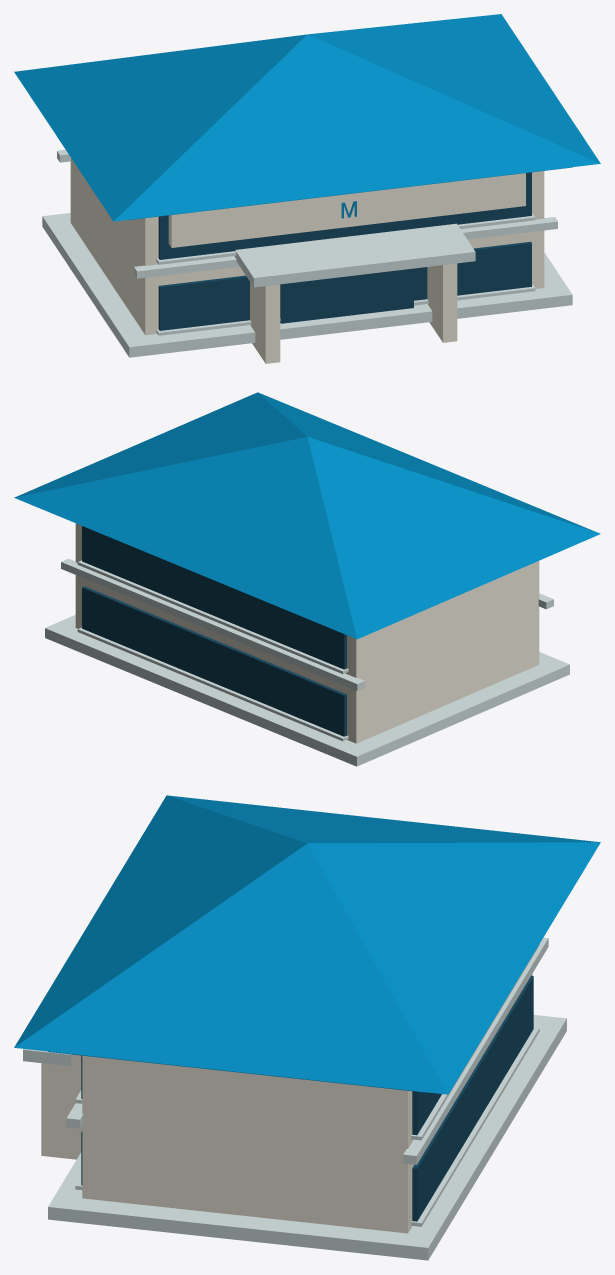
File: mahad-m.glb
The picture shows the model from 3 angles, top to bottom: view 1: azimuth 30°, elevation 25°; view 2: azimuth 150°, elevation 25°; view 3: azimuth 270°, elevation 25°; orthographic projection. The views are drawn at different scales.
Visible parts, largest first — view 1: Mahad_M_blue, Mahad_M_ivory, Mahad_M_trim, Mahad_M_glass; view 2: Mahad_M_blue, Mahad_M_ivory, Mahad_M_glass, Mahad_M_trim; view 3: Mahad_M_blue, Mahad_M_ivory, Mahad_M_trim, Mahad_M_glass.
Part boxes in pixels (bbox=[...]): Mahad_M_blue: bbox=[14, 14, 600, 221]; Mahad_M_ivory: bbox=[70, 158, 544, 363]; Mahad_M_trim: bbox=[42, 149, 572, 357]; Mahad_M_glass: bbox=[158, 172, 531, 330]; Mahad_M_blue: bbox=[14, 392, 600, 639]; Mahad_M_ivory: bbox=[75, 523, 539, 743]; Mahad_M_glass: bbox=[82, 526, 346, 736]; Mahad_M_trim: bbox=[45, 558, 569, 766]; Mahad_M_blue: bbox=[14, 795, 600, 1094]; Mahad_M_ivory: bbox=[41, 973, 532, 1233]; Mahad_M_trim: bbox=[23, 937, 566, 1260]; Mahad_M_glass: bbox=[81, 975, 533, 1221].
Size of the model in its own units: 25.27 by 11.35 by 20.95.
